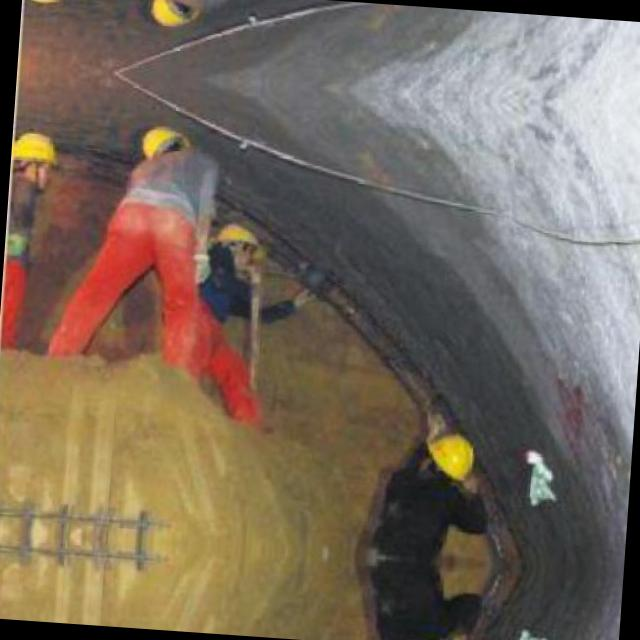helmet: (418, 426, 478, 484), (9, 126, 58, 196), (135, 118, 191, 173), (209, 220, 263, 266), (144, 0, 201, 32), (21, 0, 69, 7)
